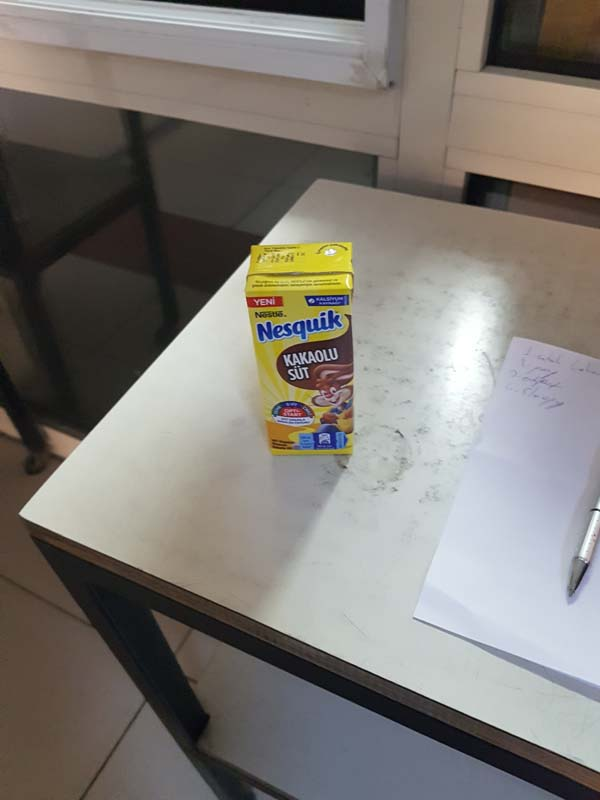nesquick200ml: (247, 237, 373, 472)
